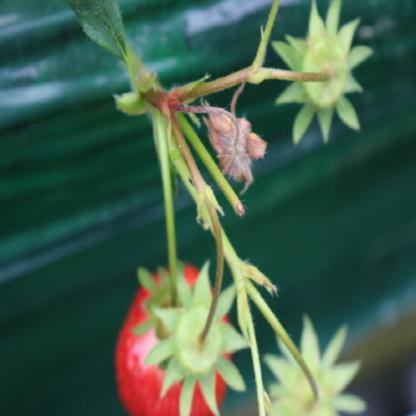Strawberry_Gray_Mold: (180, 82, 268, 196)
